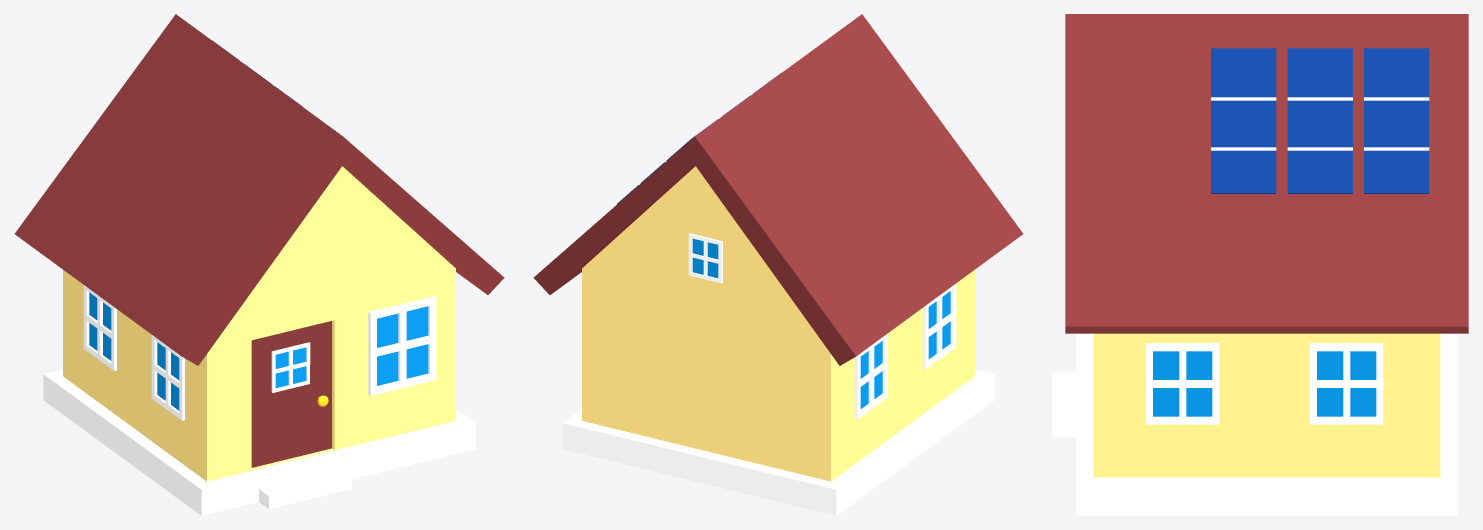
Rendered from house.gltf.
The picture shows the model from 3 angles, left to right: view 1: azimuth 30°, elevation 25°; view 2: azimuth 150°, elevation 25°; view 3: azimuth 270°, elevation 25°; orthographic projection. The views are drawn at different scales.
Visible parts, largest first — view 1: Cube.480; view 2: Cube.480; view 3: Cube.480.
Boxes of the visible parts, left/top/right/bottom form: Cube.480: left=14, top=14, right=504, bottom=515; Cube.480: left=533, top=14, right=1023, bottom=515; Cube.480: left=1052, top=14, right=1468, bottom=515.
Size of the model in its own units: 1.9 by 1.98 by 1.76.
1 material, 1 textured.
